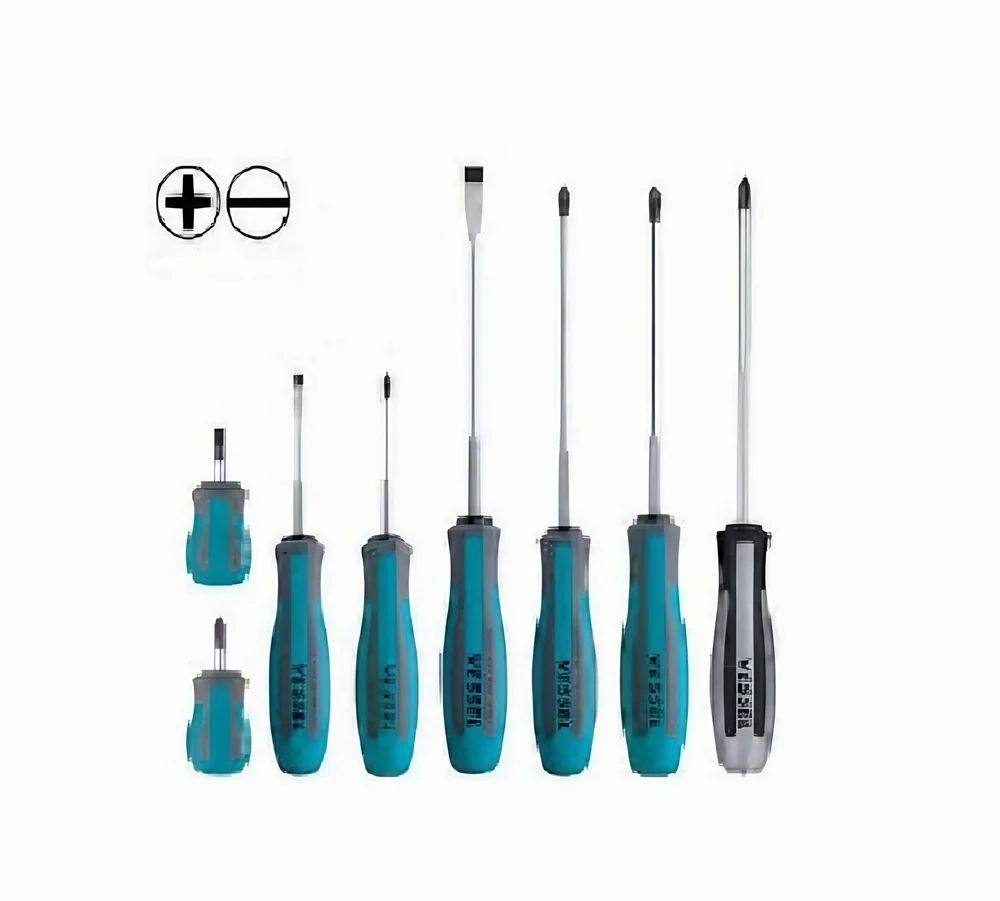screwdriver: (703, 176, 784, 774), (437, 167, 510, 777), (618, 187, 689, 781), (530, 187, 598, 775), (354, 370, 419, 776), (270, 373, 331, 776), (185, 428, 255, 589), (188, 617, 253, 784)
